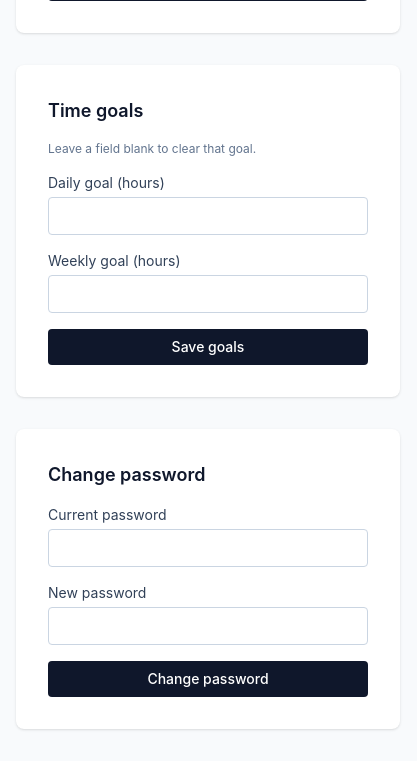
Test: DashboardPage › shows an error when changing the password fails
(page scrolled)
Type "wrongPassword" into the password field labelled "Current password" at (208, 548), box [48, 529, 368, 567]
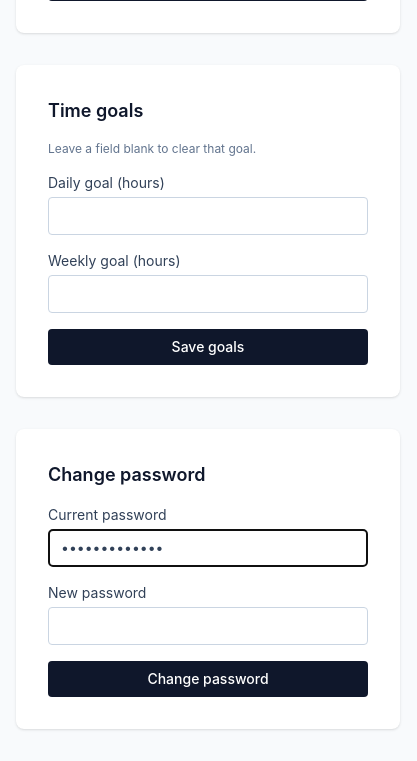
Type "newPassword1" into the password field labelled "New password" at (208, 626), box [48, 607, 368, 645]
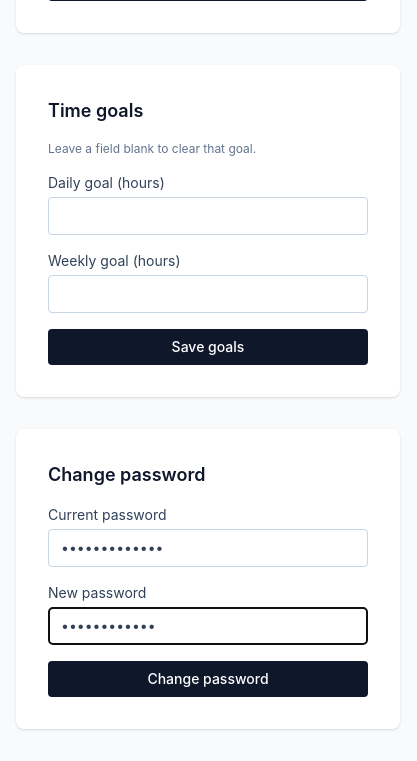
Click the button "Change password" at (208, 679), box [48, 661, 368, 697]
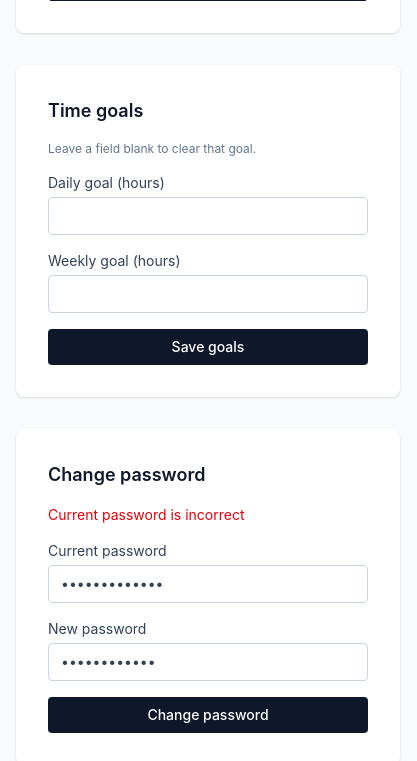
Now the text "Current password is incorrect" is shown, box [48, 506, 244, 523]
